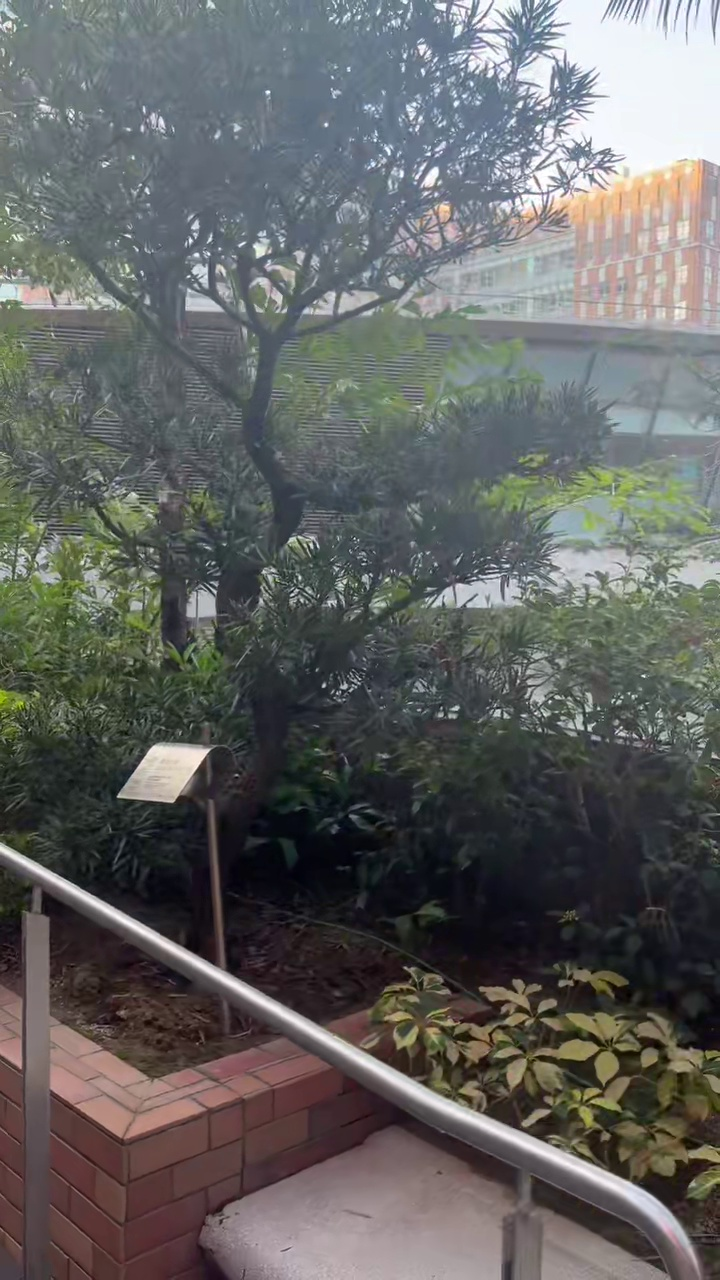Podocarpus macrophyllus: (0, 0, 615, 867)
